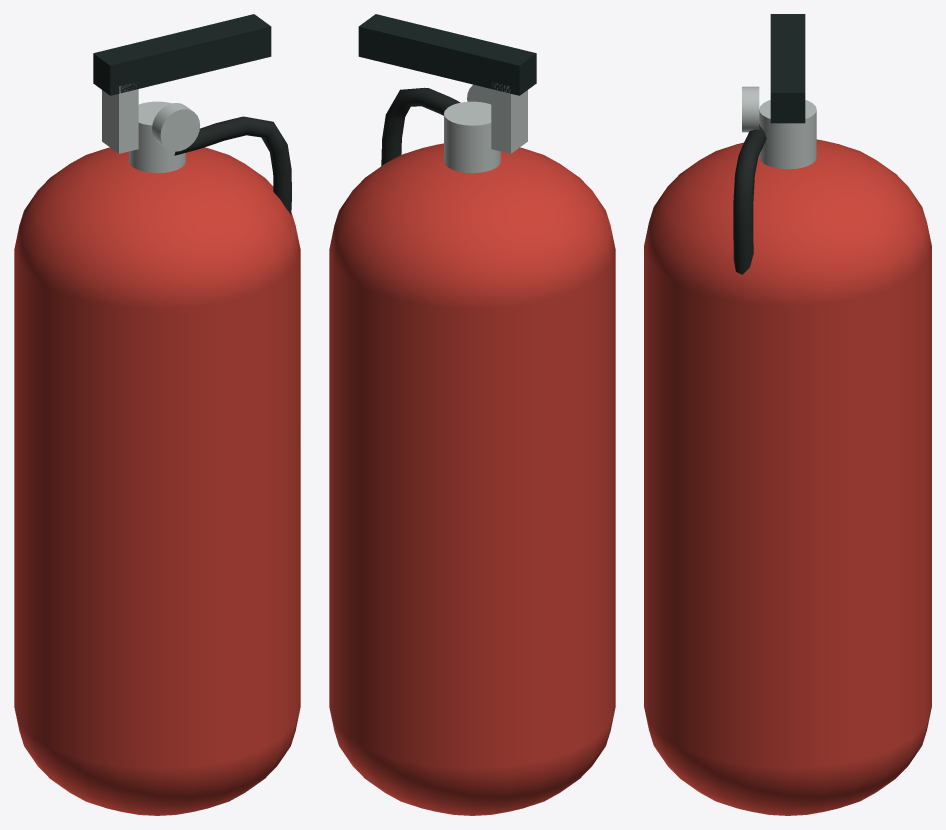
Rendered from fire-extinguisher.glb.
3 views of the same model, side by side, from view 1: azimuth 30°, elevation 25°; view 2: azimuth 150°, elevation 25°; view 3: azimuth 270°, elevation 25° (orthographic).
Parts seen in each view (by area): view 1: CylinderBody, UpperDome, LowerDome, CarryHandle, DischargeHose, HandleSupport, ValveNeck, PressureGauge; view 2: CylinderBody, UpperDome, LowerDome, CarryHandle, ValveNeck, DischargeHose, HandleSupport; view 3: CylinderBody, UpperDome, LowerDome, CarryHandle, ValveNeck, DischargeHose, PressureGauge.
Part boxes in pixels (x1,y1,x2,y2): CylinderBody: (14, 249, 300, 767); UpperDome: (14, 147, 300, 309); LowerDome: (15, 710, 299, 815); CarryHandle: (93, 14, 271, 95); DischargeHose: (174, 116, 291, 214); HandleSupport: (102, 83, 138, 153); ValveNeck: (129, 101, 185, 173); PressureGauge: (152, 103, 200, 151); CylinderBody: (329, 249, 615, 767); UpperDome: (329, 143, 615, 309); LowerDome: (330, 710, 614, 815); CarryHandle: (358, 14, 536, 95); ValveNeck: (444, 101, 500, 173); DischargeHose: (381, 87, 460, 165); HandleSupport: (491, 82, 527, 153); CylinderBody: (644, 246, 931, 767); UpperDome: (644, 139, 931, 306); LowerDome: (644, 708, 931, 815); CarryHandle: (770, 14, 805, 123); ValveNeck: (759, 100, 816, 169); DischargeHose: (733, 124, 766, 274); PressureGauge: (742, 86, 759, 132).
Size of the model in its own units: 0.2 by 0.58 by 0.2.
